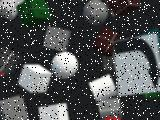Right: (113, 33, 160, 96)
